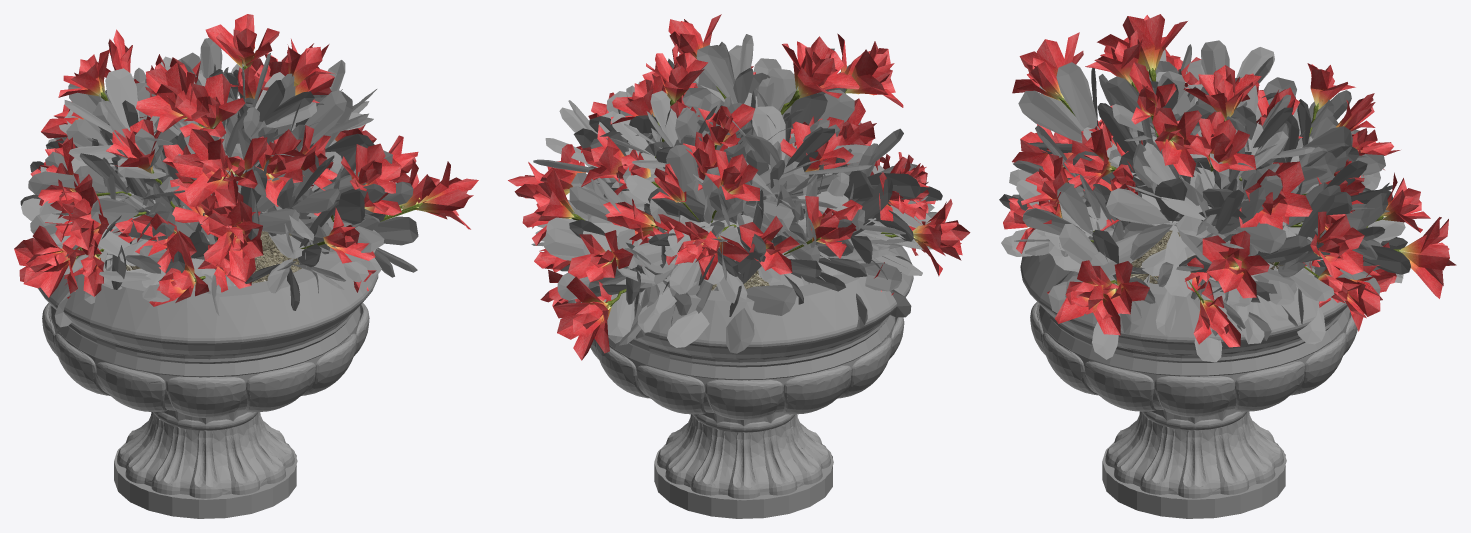
File: flowervase.FBX
The picture shows the model from 3 angles, left to right: view 1: azimuth 30°, elevation 25°; view 2: azimuth 150°, elevation 25°; view 3: azimuth 270°, elevation 25°; orthographic projection. The views are drawn at different scales.
Parts seen in each view (by area): view 1: sub01, Arch41_045, Arch41_042, Arch41_044, sub02, Arch41_041; view 2: Arch41_045, sub01, Arch41_042, Arch41_044, sub02; view 3: Arch41_045, sub01, Arch41_042, Arch41_044, sub02, Arch41_041.
Boxes of the visible parts, x1,y1,x2,y2 form: sub01: (38,216,378,518); Arch41_045: (20,38,418,357); Arch41_042: (14,14,447,297); Arch41_044: (19,29,478,306); sub02: (143,412,291,486); Arch41_041: (126,205,301,283); Arch41_045: (531,34,942,353); sub01: (590,197,913,518); Arch41_042: (522,36,962,360); Arch41_044: (508,14,970,306); sub02: (660,414,827,472); Arch41_045: (999,40,1410,362); sub01: (1020,254,1357,518); Arch41_042: (1012,14,1456,319); Arch41_044: (1003,49,1400,347); sub02: (1108,411,1271,486); Arch41_041: (1130,230,1283,283).
Bounding box in the file's own units: 48.16 × 47.23 × 44.12.
7 materials, 4 textured.
